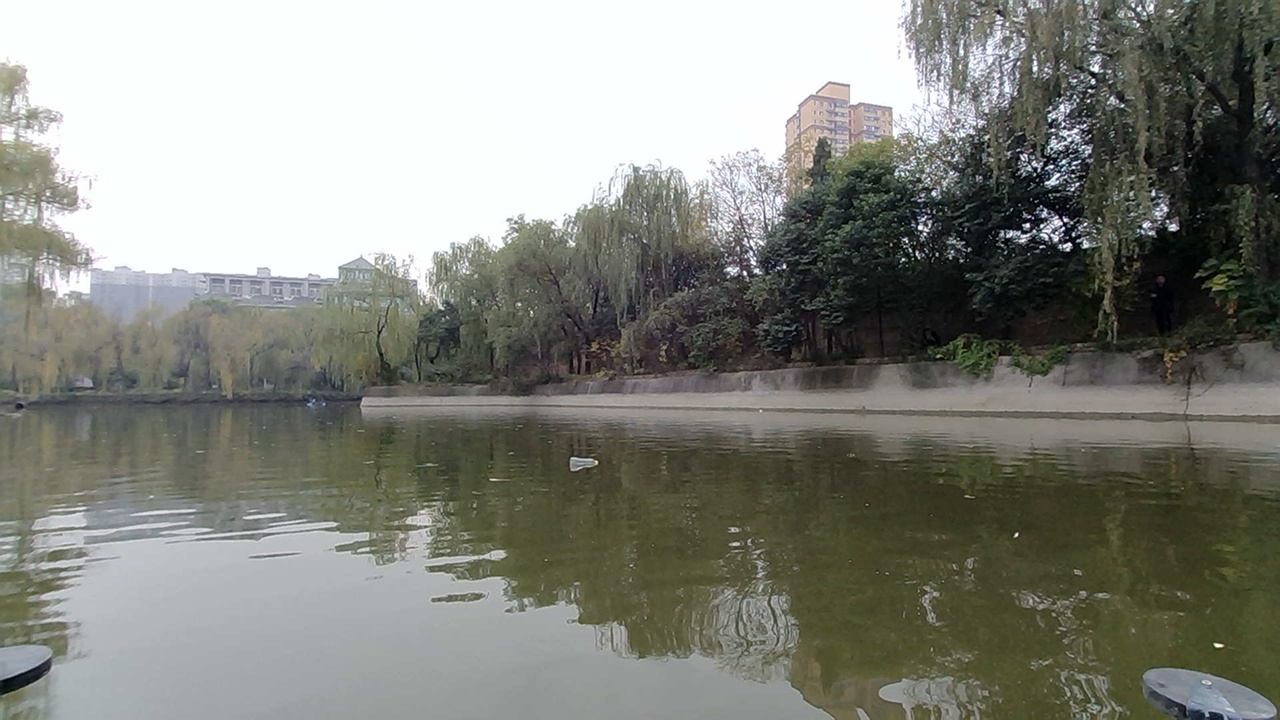bottle: (560, 440, 612, 477)
